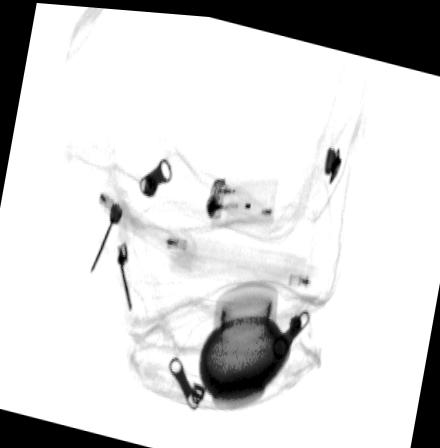Lighter: (204, 171, 278, 220)
